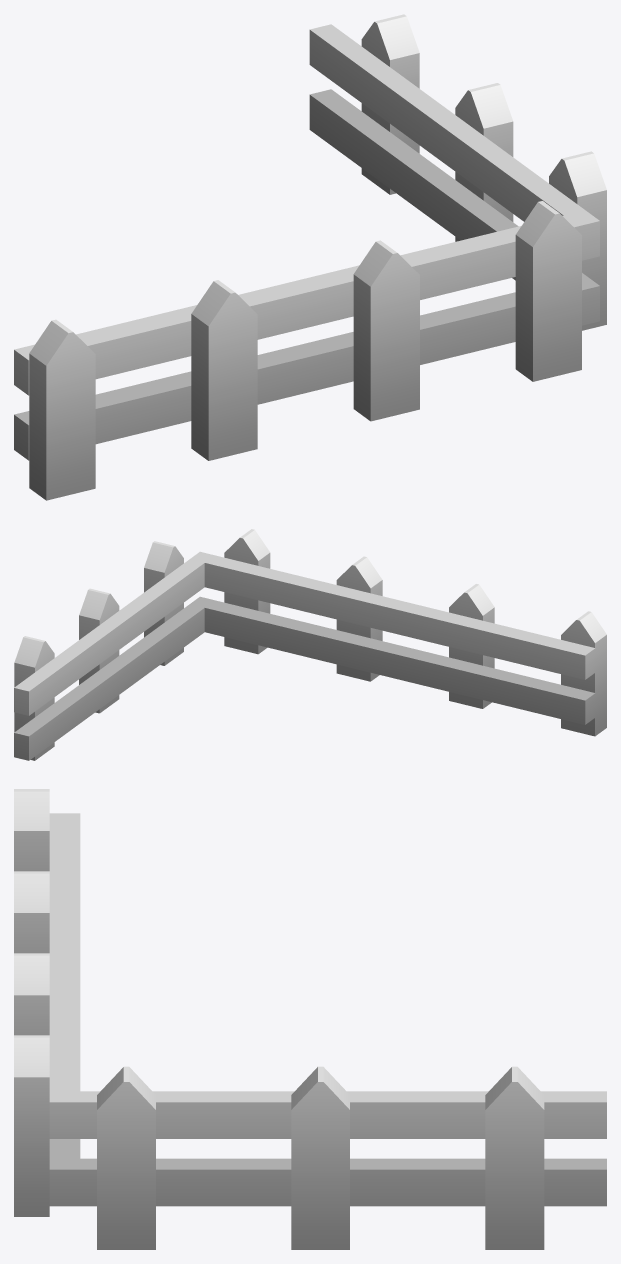
Rendered from fence white right.fbx.
3 views of the same model, one above another, from view 1: azimuth 30°, elevation 25°; view 2: azimuth 150°, elevation 25°; view 3: azimuth 270°, elevation 25° (orthographic). The views are drawn at different scales.
Visible parts, largest first — view 1: fence_white_right; view 2: fence_white_right; view 3: fence_white_right.
Boxes of the visible parts, left/top/right/bottom form: fence_white_right: left=14, top=14, right=606, bottom=500; fence_white_right: left=14, top=529, right=606, bottom=760; fence_white_right: left=14, top=789, right=606, bottom=1249.
Size of the model in its own units: 408 by 105 by 336.
Materials: 1 (1 with a texture image).
